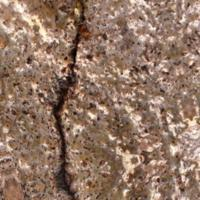crack: (53, 0, 93, 199)
